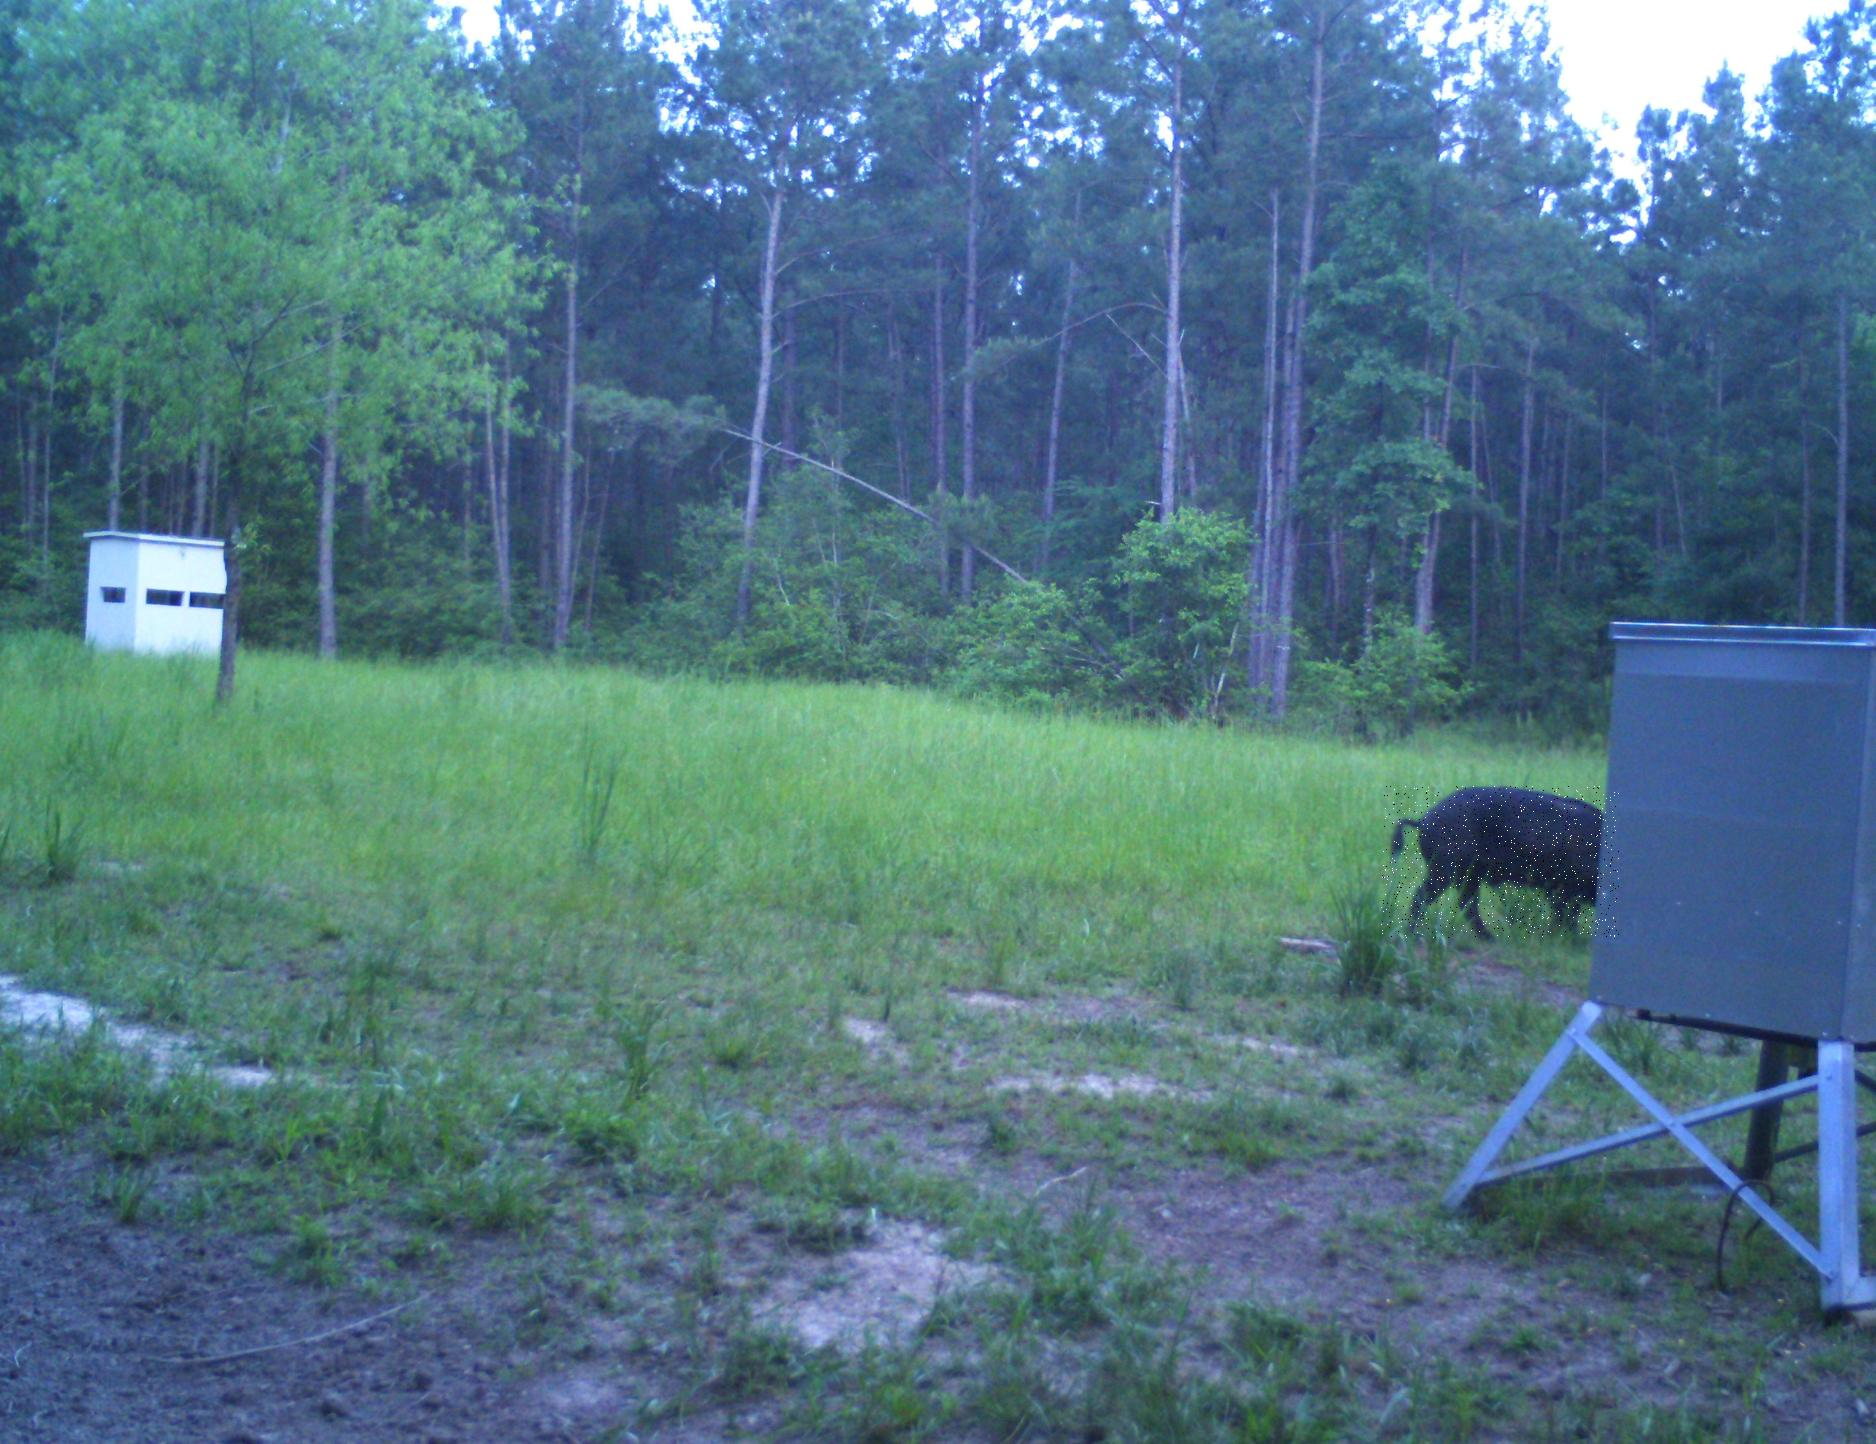Hog: (1382, 786, 1620, 937)
